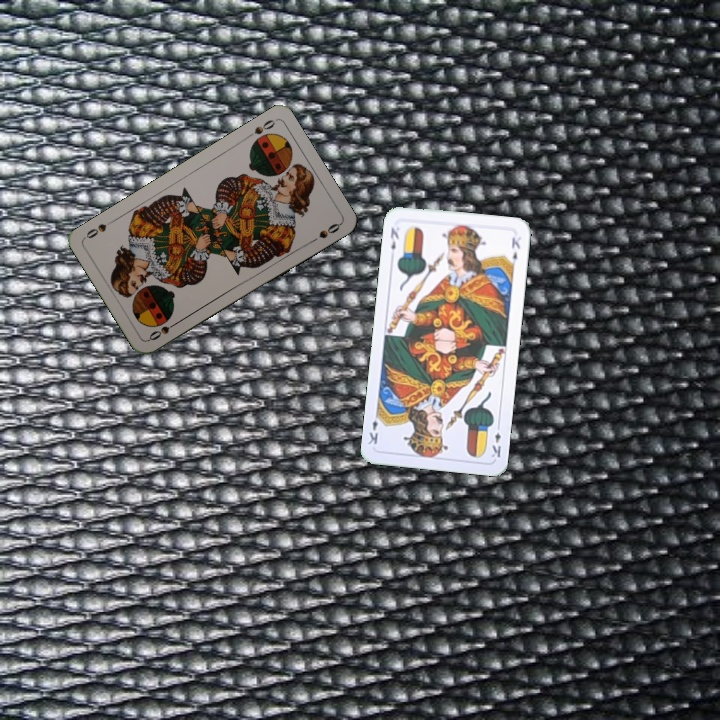EK: (487, 420, 504, 460), (386, 223, 401, 252)
SO: (145, 317, 181, 343), (242, 115, 278, 141)
